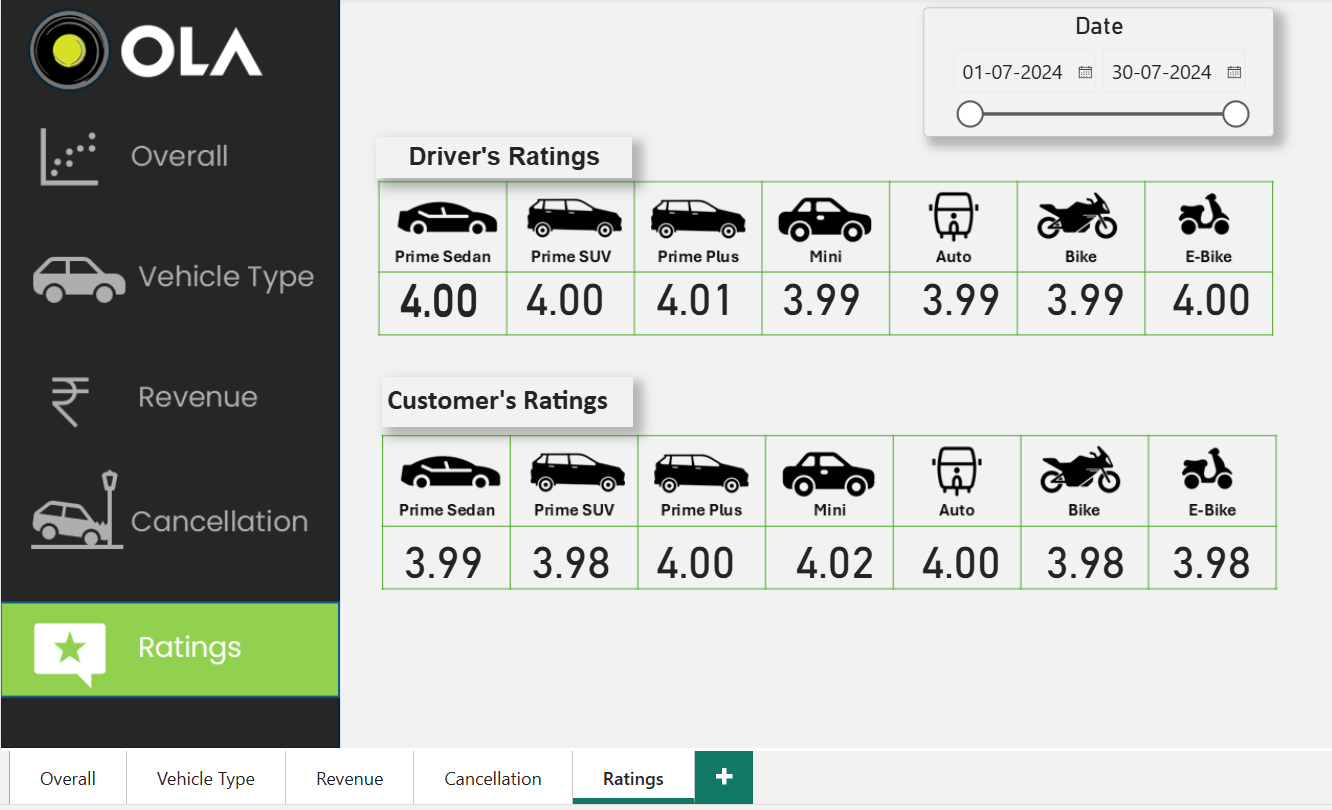

This screenshot's page, from the dashboard's own definition file:
{"tool":"powerbi","page":{"name":"Ratings","canvas":[1280,720],"ordinal":4},"visuals":[{"type":"actionButton","box":[0,226,326,92],"z":0},{"type":"actionButton","box":[0,340,326,92],"z":1000},{"type":"actionButton","box":[0,448,326,94],"z":2000},{"type":"actionButton","box":[0,98,326,110],"z":3000},{"type":"card","fields":{"Values":["Avg(July.Driver_Ratings)"]},"box":[358.5,253,119.5,61.7],"z":4000},{"type":"card","fields":{"Values":["Avg(July.Driver_Ratings)"]},"box":[478,253,119.5,61.7],"z":5000},{"type":"card","fields":{"Values":["Avg(July.Driver_Ratings)"]},"box":[603.5,253,119.5,61.7],"z":6000},{"type":"card","fields":{"Values":["Avg(July.Driver_Ratings)"]},"box":[723,253,119.5,61.7],"z":7000},{"type":"card","fields":{"Values":["Avg(July.Driver_Ratings)"]},"box":[856.4,253,119.5,61.7],"z":8000},{"type":"card","fields":{"Values":["Avg(July.Driver_Ratings)"]},"box":[975.9,253,119.5,61.7],"z":9000},{"type":"card","fields":{"Values":["Avg(July.Driver_Ratings)"]},"box":[1095.5,253,119.5,61.7],"z":10000},{"type":"textbox","box":[358.5,133.4,245,39.8],"z":11000},{"type":"card","fields":{"Values":["Avg(July.Driver_Ratings)"]},"box":[358.5,254.9,119.5,61.7],"z":12000},{"type":"textbox","box":[364.5,362.5,239,47.8],"z":13000},{"type":"card","fields":{"Values":["Avg(July.Customer_Rating)"]},"box":[362.5,503.9,119.5,61.7],"z":14000},{"type":"card","fields":{"Values":["Avg(July.Customer_Rating)"]},"box":[484,503.9,119.5,61.7],"z":15000},{"type":"card","fields":{"Values":["Avg(July.Customer_Rating)"]},"box":[603.5,503.9,119.5,61.7],"z":16000},{"type":"card","fields":{"Values":["Avg(July.Customer_Rating)"]},"box":[736.9,503.9,119.5,61.7],"z":17000},{"type":"card","fields":{"Values":["Avg(July.Customer_Rating)"]},"box":[856.4,503.9,119.5,61.7],"z":18000},{"type":"card","fields":{"Values":["Avg(July.Customer_Rating)"]},"box":[975.9,503.9,119.5,61.7],"z":19000},{"type":"card","fields":{"Values":["Avg(July.Customer_Rating)"]},"box":[1095.5,503.9,119.5,61.7],"z":20000},{"type":"slicer","title":"Date","fields":{"Values":["July.Date"]},"box":[880.3,10,334.6,123.5],"z":21000}]}

Visuals, with their boxes on the page's 1280x720 design canvas (x1, y1, x2, y2). These are canvas units, not pixel positions in the 1332x810 screenshot, which may show the page scaled, cropped or inside an application window:
actionButton: [left=0, top=226, right=326, bottom=318]
actionButton: [left=0, top=340, right=326, bottom=432]
actionButton: [left=0, top=448, right=326, bottom=542]
actionButton: [left=0, top=98, right=326, bottom=208]
card - Avg(July.Driver_Ratings): [left=358, top=253, right=478, bottom=315]
card - Avg(July.Driver_Ratings): [left=478, top=253, right=598, bottom=315]
card - Avg(July.Driver_Ratings): [left=604, top=253, right=723, bottom=315]
card - Avg(July.Driver_Ratings): [left=723, top=253, right=842, bottom=315]
card - Avg(July.Driver_Ratings): [left=856, top=253, right=976, bottom=315]
card - Avg(July.Driver_Ratings): [left=976, top=253, right=1095, bottom=315]
card - Avg(July.Driver_Ratings): [left=1096, top=253, right=1215, bottom=315]
textbox: [left=358, top=133, right=604, bottom=173]
card - Avg(July.Driver_Ratings): [left=358, top=255, right=478, bottom=317]
textbox: [left=364, top=362, right=604, bottom=410]
card - Avg(July.Customer_Rating): [left=362, top=504, right=482, bottom=566]
card - Avg(July.Customer_Rating): [left=484, top=504, right=604, bottom=566]
card - Avg(July.Customer_Rating): [left=604, top=504, right=723, bottom=566]
card - Avg(July.Customer_Rating): [left=737, top=504, right=856, bottom=566]
card - Avg(July.Customer_Rating): [left=856, top=504, right=976, bottom=566]
card - Avg(July.Customer_Rating): [left=976, top=504, right=1095, bottom=566]
card - Avg(July.Customer_Rating): [left=1096, top=504, right=1215, bottom=566]
"Date" slicer: [left=880, top=10, right=1215, bottom=134]
